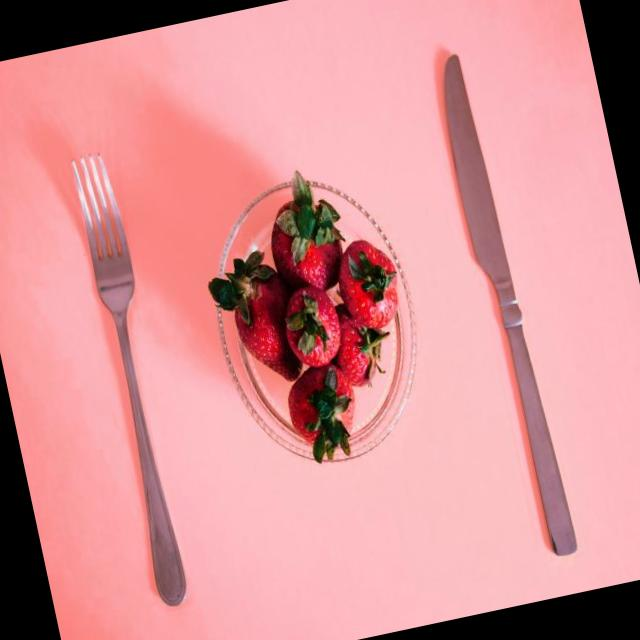Knife: (442, 54, 580, 558)
